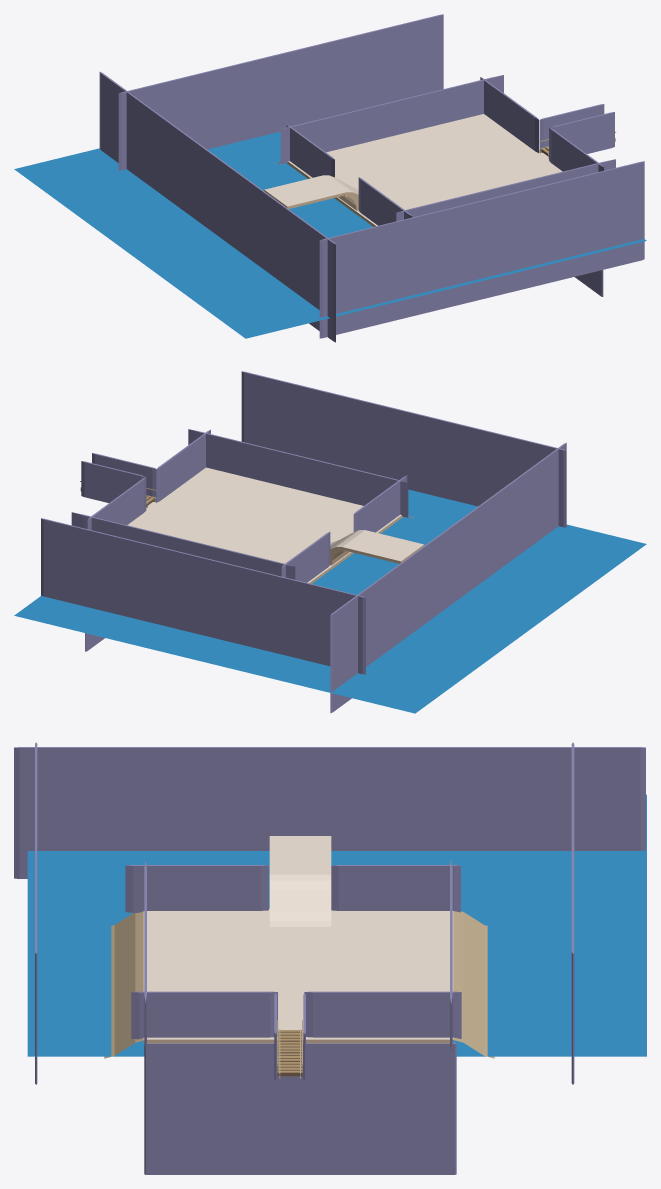
File: temple_main_room.obj
3 renders of one model, top to bottom at view 1: azimuth 30°, elevation 25°; view 2: azimuth 150°, elevation 25°; view 3: azimuth 270°, elevation 25°, orthographic. The views are drawn at different scales.
Visible parts, largest first — view 1: mergedBlocks; view 2: mergedBlocks; view 3: mergedBlocks.
Part boxes in pixels (box(x1,y1,x2,y2)): mergedBlocks: box(14, 14, 646, 342); mergedBlocks: box(14, 371, 646, 713); mergedBlocks: box(14, 742, 646, 1174).
Bounding box in the file's own units: 34.69 × 11.8 × 30.66.
